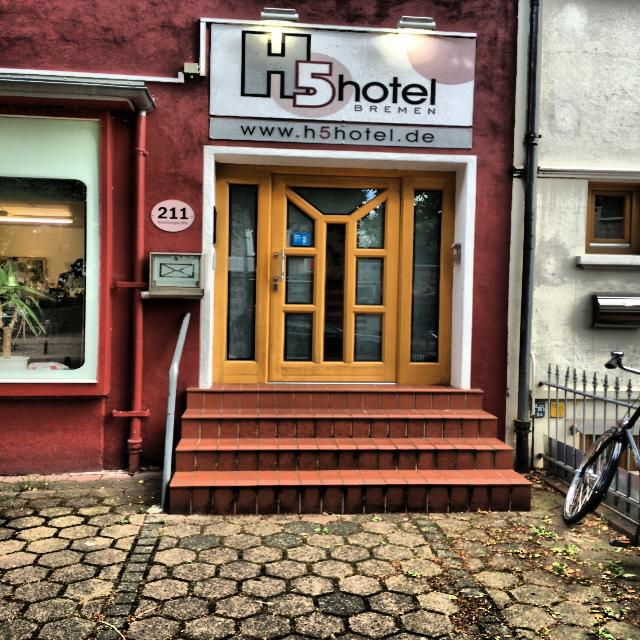escada: (166, 386, 528, 514)
